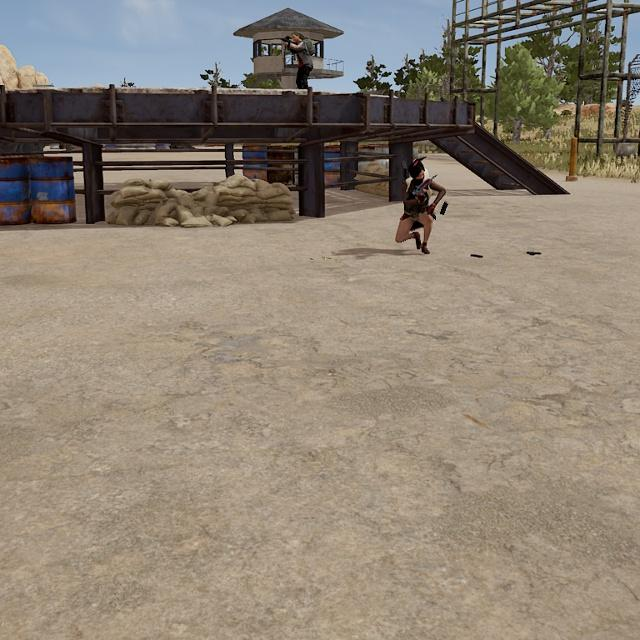head: (408, 160, 428, 185), (289, 30, 302, 46)
people: (394, 155, 447, 257), (286, 30, 314, 89)
